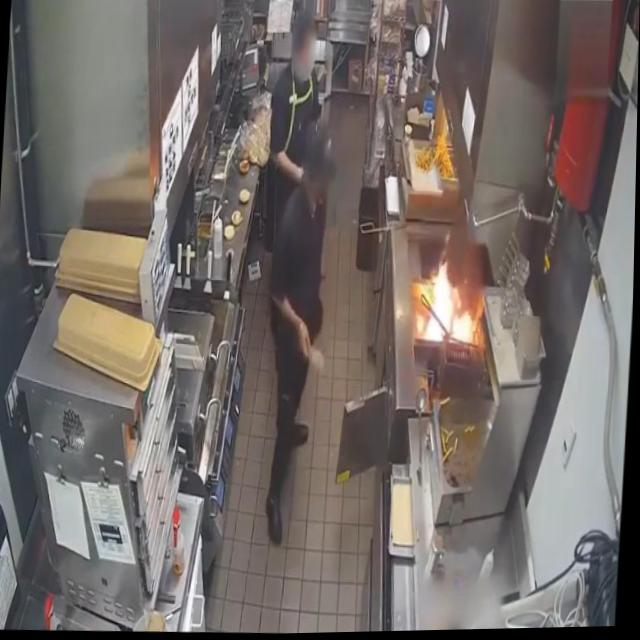fire: (424, 240, 483, 357)
